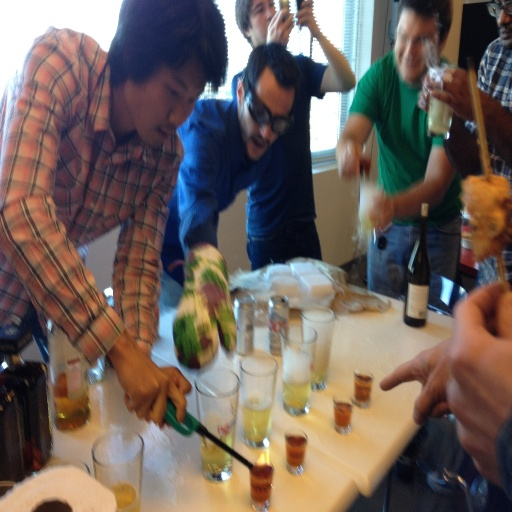hand: (445, 279, 511, 488), (109, 334, 187, 430), (377, 335, 454, 425), (426, 66, 499, 129), (333, 135, 372, 180), (365, 186, 394, 235), (264, 7, 295, 51), (156, 364, 193, 400), (294, 0, 320, 38), (416, 72, 430, 113)
